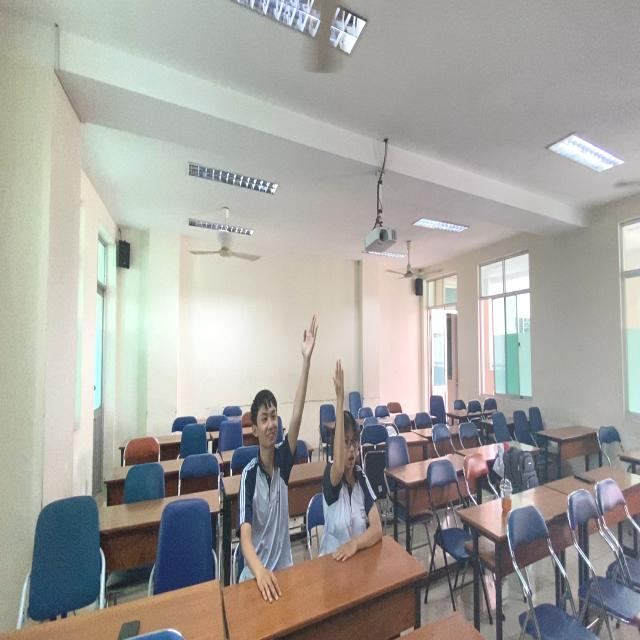raise_hand: (233, 313, 319, 588), (323, 365, 389, 548)
